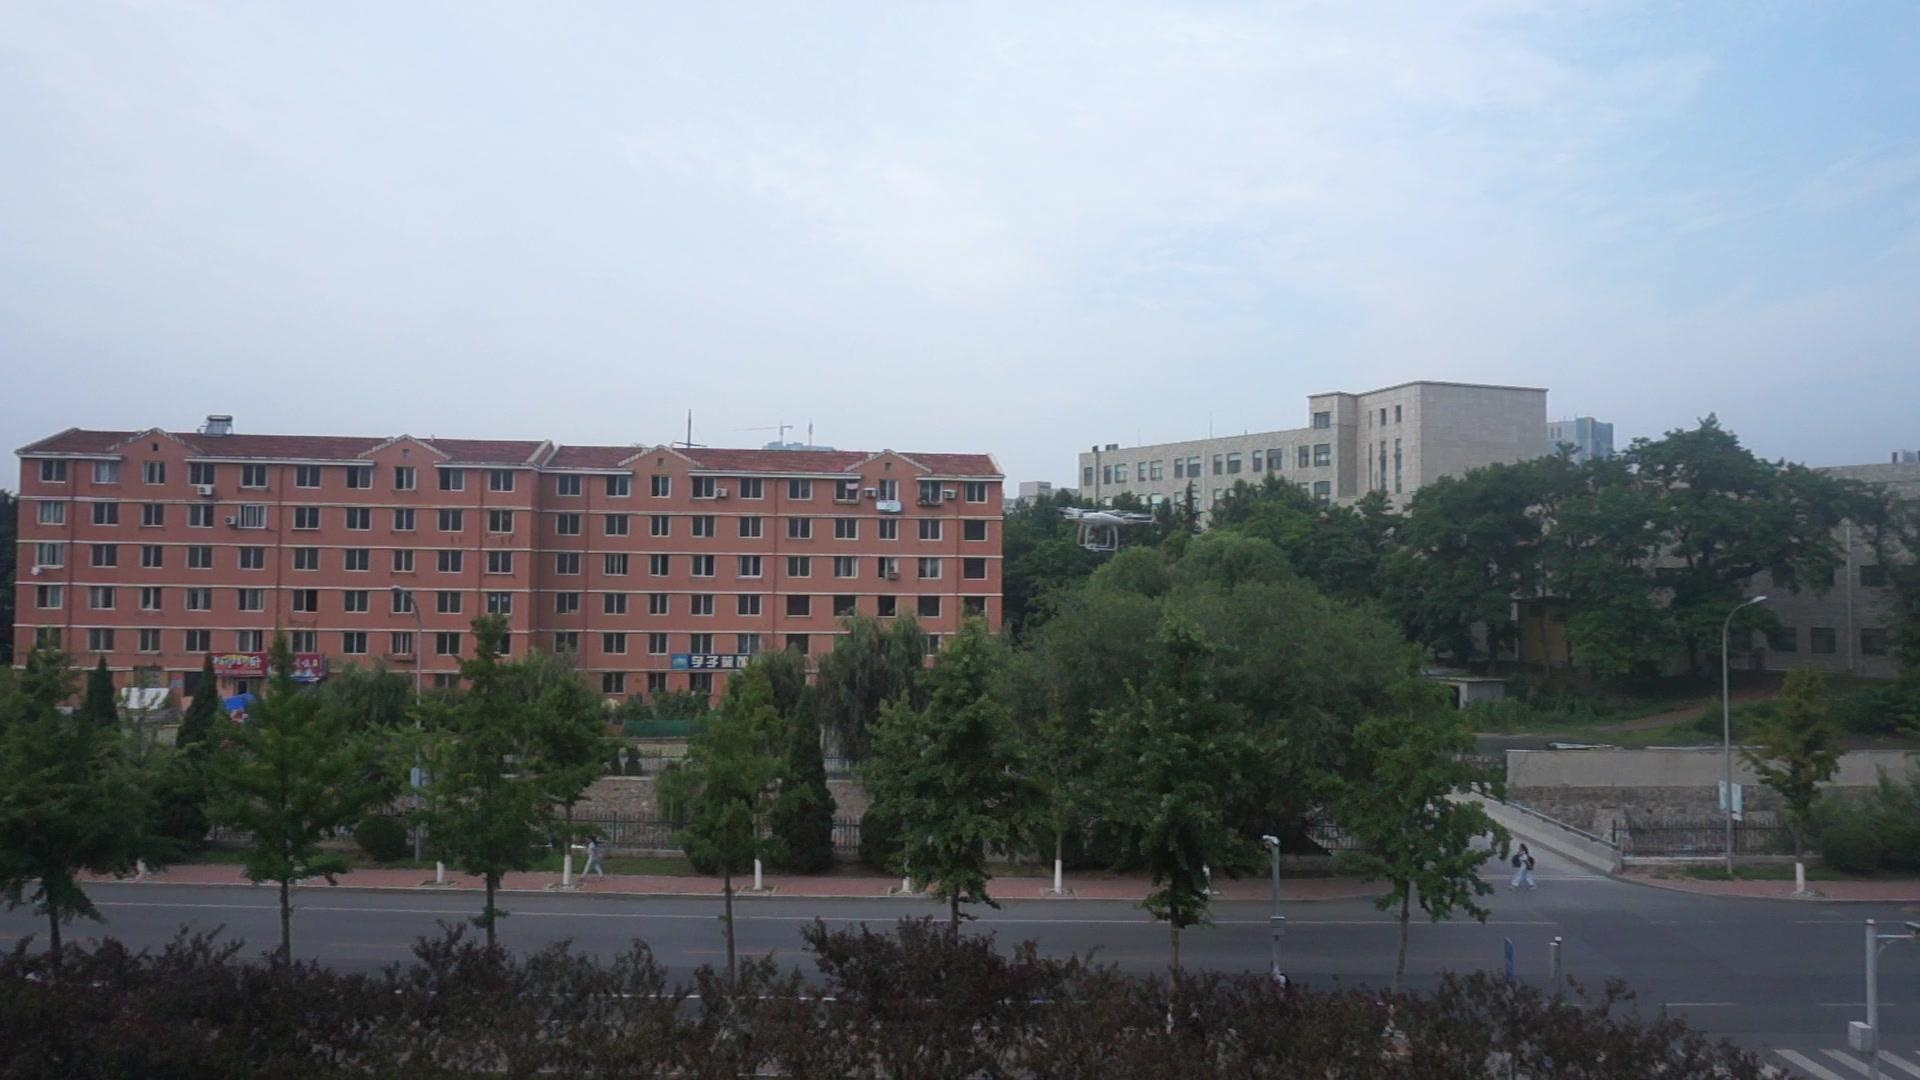UAV: (1058, 506, 1156, 553)
